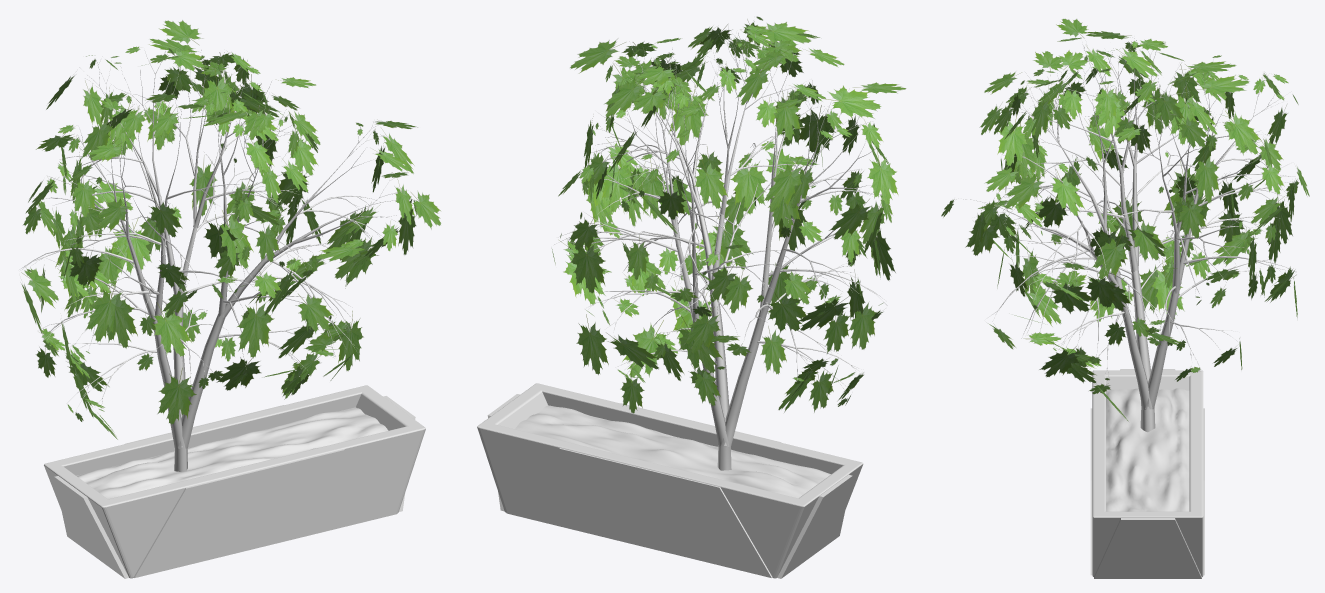
The model's file is flowerpot.glb.
The picture shows the model from 3 angles, left to right: view 1: azimuth 30°, elevation 25°; view 2: azimuth 150°, elevation 25°; view 3: azimuth 270°, elevation 25°; orthographic projection. The views are drawn at different scales.
Parts seen in each view (by area): view 1: leaves, flowerpot.001, flowerpot, tree, soil; view 2: leaves, flowerpot.001, flowerpot, tree, soil; view 3: leaves, tree, soil, flowerpot, flowerpot.001.
Boxes of the visible parts, box(x1,y1,x2,y2) form: leaves: box(21, 20, 440, 439); flowerpot.001: box(54, 396, 415, 578); flowerpot: box(44, 385, 425, 578); tree: box(19, 49, 411, 471); soil: box(76, 407, 388, 499); leaves: box(552, 16, 906, 413); flowerpot.001: box(487, 394, 852, 578); flowerpot: box(477, 383, 863, 578); tree: box(554, 20, 887, 470); soil: box(515, 405, 830, 498); leaves: box(941, 18, 1309, 421); tree: box(961, 38, 1295, 432); soil: box(1106, 388, 1189, 511); flowerpot: box(1092, 370, 1203, 576); flowerpot.001: box(1090, 369, 1204, 578).
Size of the model in its own units: 10.31 by 12.06 by 9.17.
Materials: 5 (1 with a texture image).
